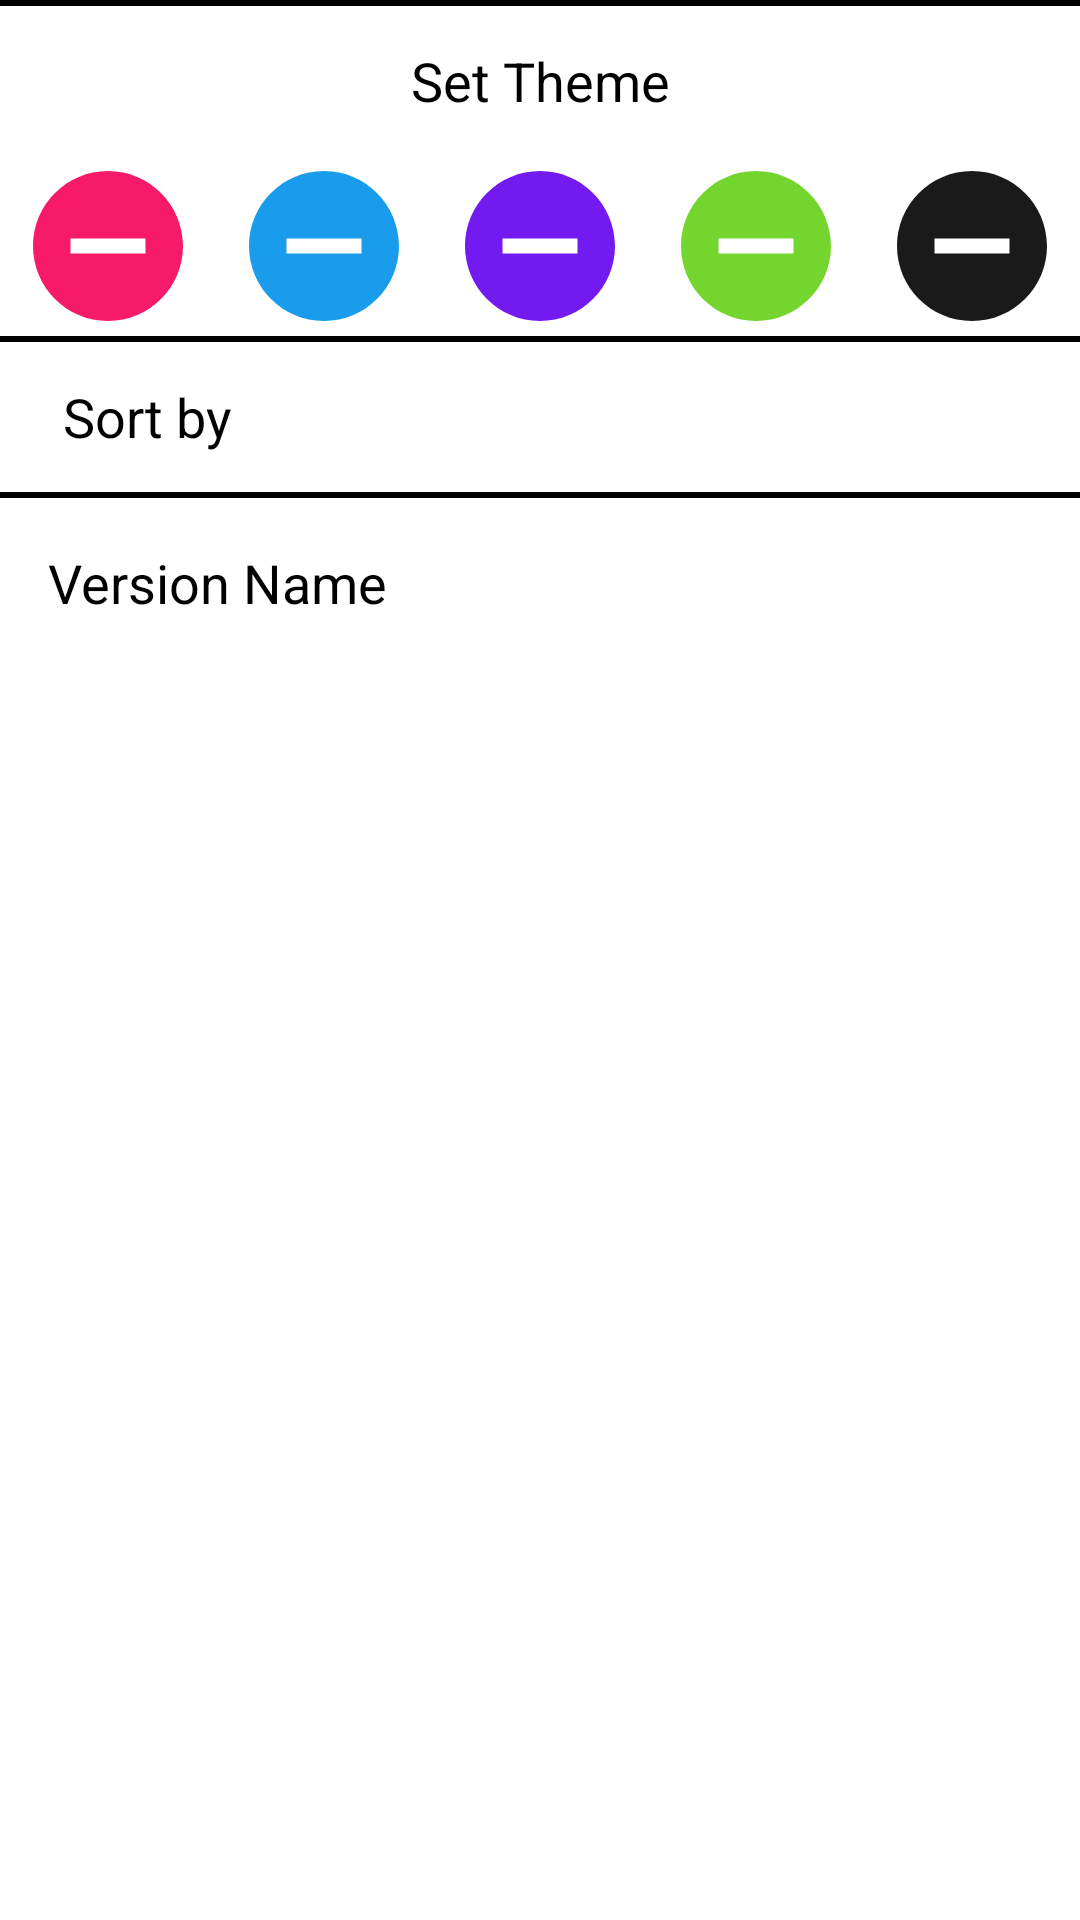

Named icons in this screenshot (1080 × 1920) and their centers, (x,y):
circle: (108,246), (324,246), (540,246), (756,246), (972,246)
